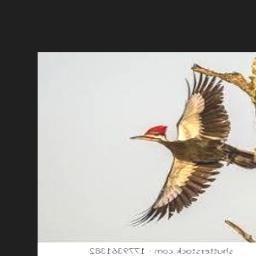Woodpecker: (127, 71, 256, 229)
